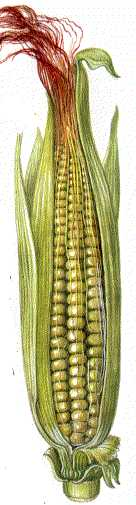corn: (0, 5, 122, 503)
